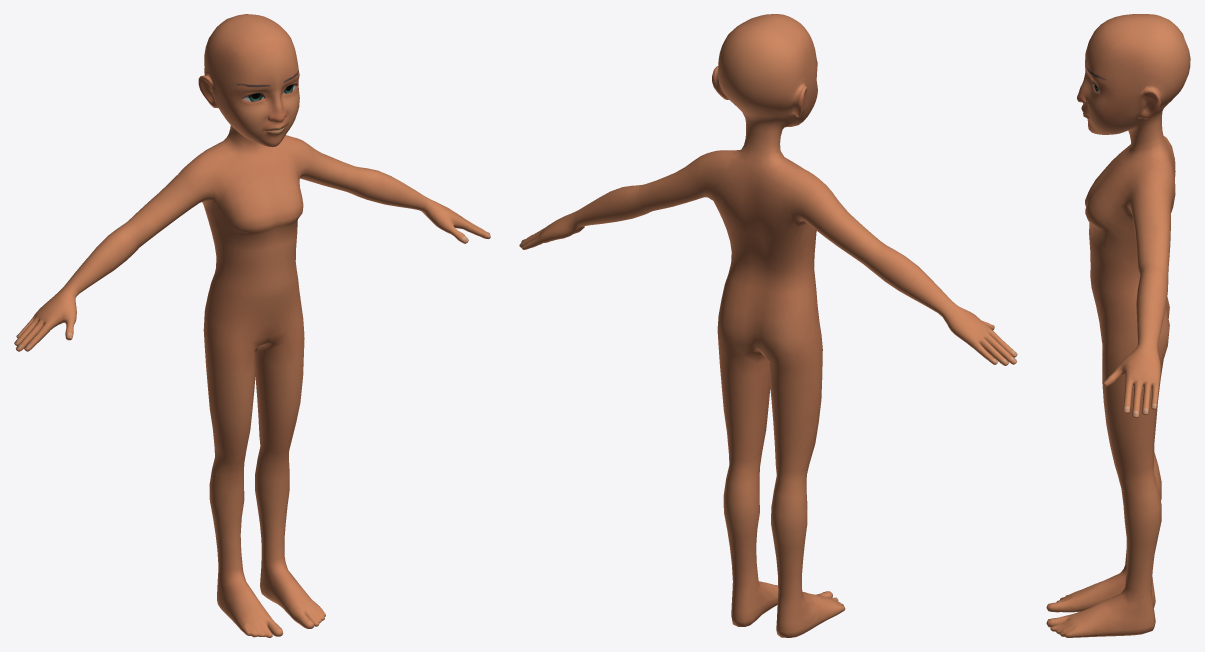
Rendered from frame_0018.glb.
3 renders of one model, left to right at view 1: azimuth 30°, elevation 25°; view 2: azimuth 150°, elevation 25°; view 3: azimuth 270°, elevation 25°, orthographic. The views are drawn at different scales.
Visible parts, largest first — view 1: frame_0018_head_geo; view 2: frame_0018_head_geo; view 3: frame_0018_head_geo.
Boxes of the visible parts, bbox=[...] form: frame_0018_head_geo: bbox=[14, 14, 490, 637]; frame_0018_head_geo: bbox=[519, 14, 1017, 637]; frame_0018_head_geo: bbox=[1046, 14, 1190, 637].
Size of the model in its own units: 1.28 by 1.5 by 0.3253.
3 materials, 3 textured.
